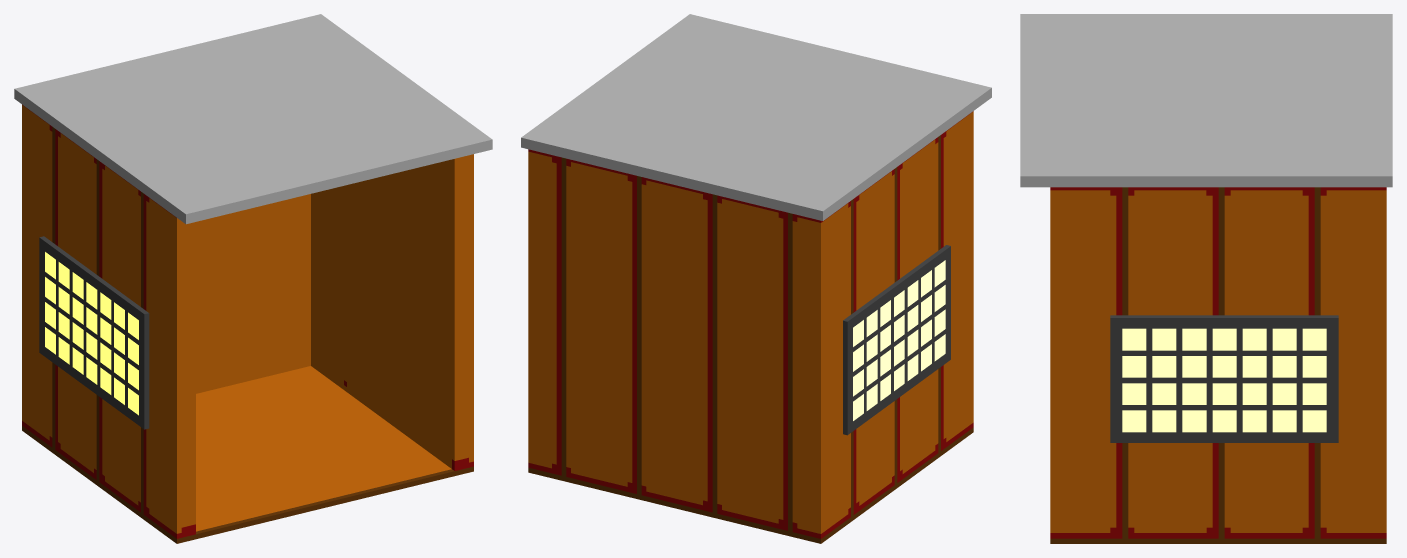
File: typeThirteen.glb
3 views of the same model, side by side, from view 1: azimuth 30°, elevation 25°; view 2: azimuth 150°, elevation 25°; view 3: azimuth 270°, elevation 25° (orthographic). The views are drawn at different scales.
Visible parts, largest first — view 1: ObjObject; view 2: ObjObject; view 3: ObjObject.
Part boxes in pixels (x1,y1,x2,y2): ObjObject: (14, 14, 492, 543); ObjObject: (521, 14, 991, 543); ObjObject: (1020, 14, 1392, 543).
Bounding box in the file's own units: 6.4 × 6.8 × 6.2.
Materials: 3 (1 with a texture image).
